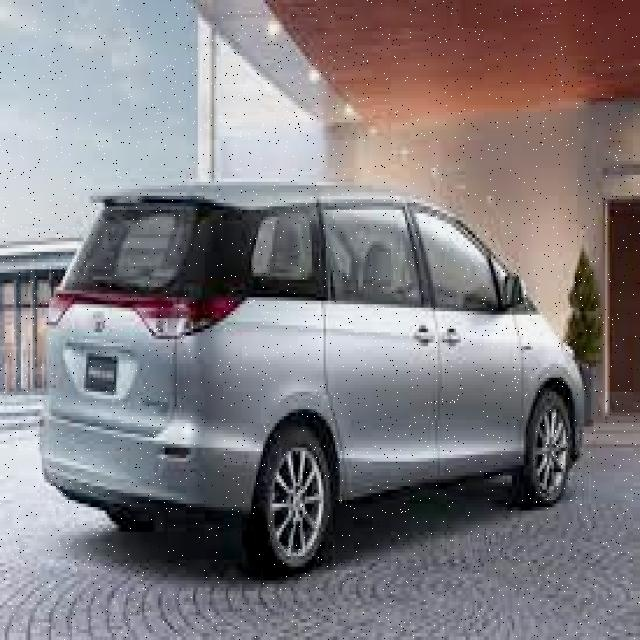Van: (38, 186, 594, 574)
